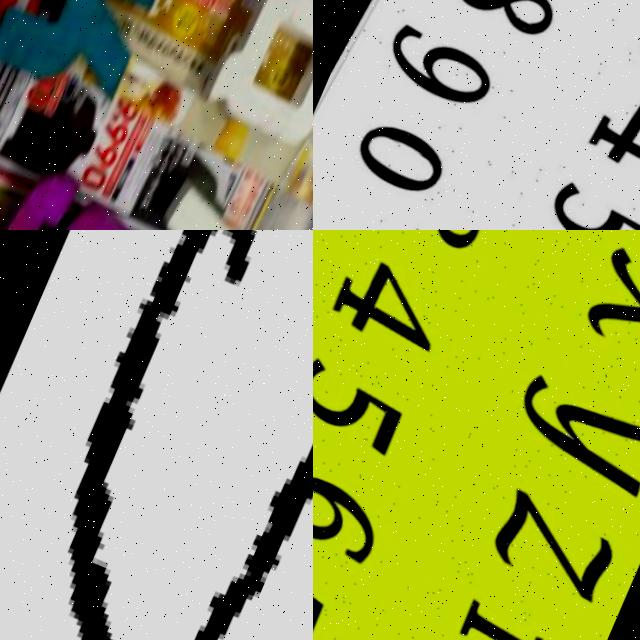0: (330, 95, 472, 222)
1: (445, 590, 563, 640)
3: (0, 230, 313, 640), (357, 230, 504, 263)
4: (315, 243, 469, 369), (566, 69, 640, 215)
5: (313, 347, 426, 469), (521, 156, 640, 230)
6: (313, 458, 408, 579)
8: (413, 0, 587, 67)
9: (356, 0, 522, 139)
H: (95, 174, 284, 230)
K: (0, 0, 174, 104)
Q: (191, 0, 313, 159)
S: (0, 167, 142, 230)
